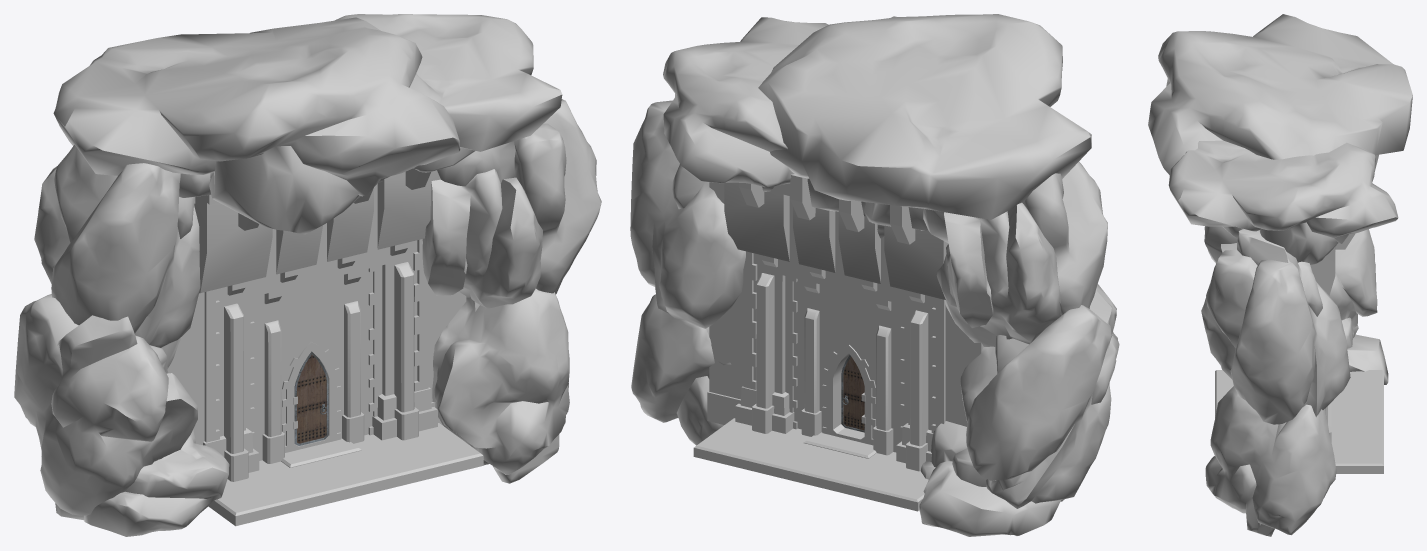
The model's file is gateway.fbx.
3 renders of one model, left to right at view 1: azimuth 30°, elevation 25°; view 2: azimuth 150°, elevation 25°; view 3: azimuth 270°, elevation 25°, orthographic. The views are drawn at different scales.
Parts seen in each view (by area): view 1: rocks_1, gateway, door; view 2: rocks_1, gateway, door; view 3: rocks_1, gateway.
Boxes of the visible parts, x1,y1,x2,y2 form: rocks_1: [14, 14, 601, 536]; gateway: [167, 168, 483, 526]; door: [294, 351, 328, 445]; rocks_1: [630, 14, 1119, 536]; gateway: [693, 174, 983, 511]; door: [841, 355, 864, 432]; rocks_1: [1148, 14, 1412, 536]; gateway: [1215, 233, 1383, 473].
Bounding box in the file's own units: 4329 × 3835 × 2345.
